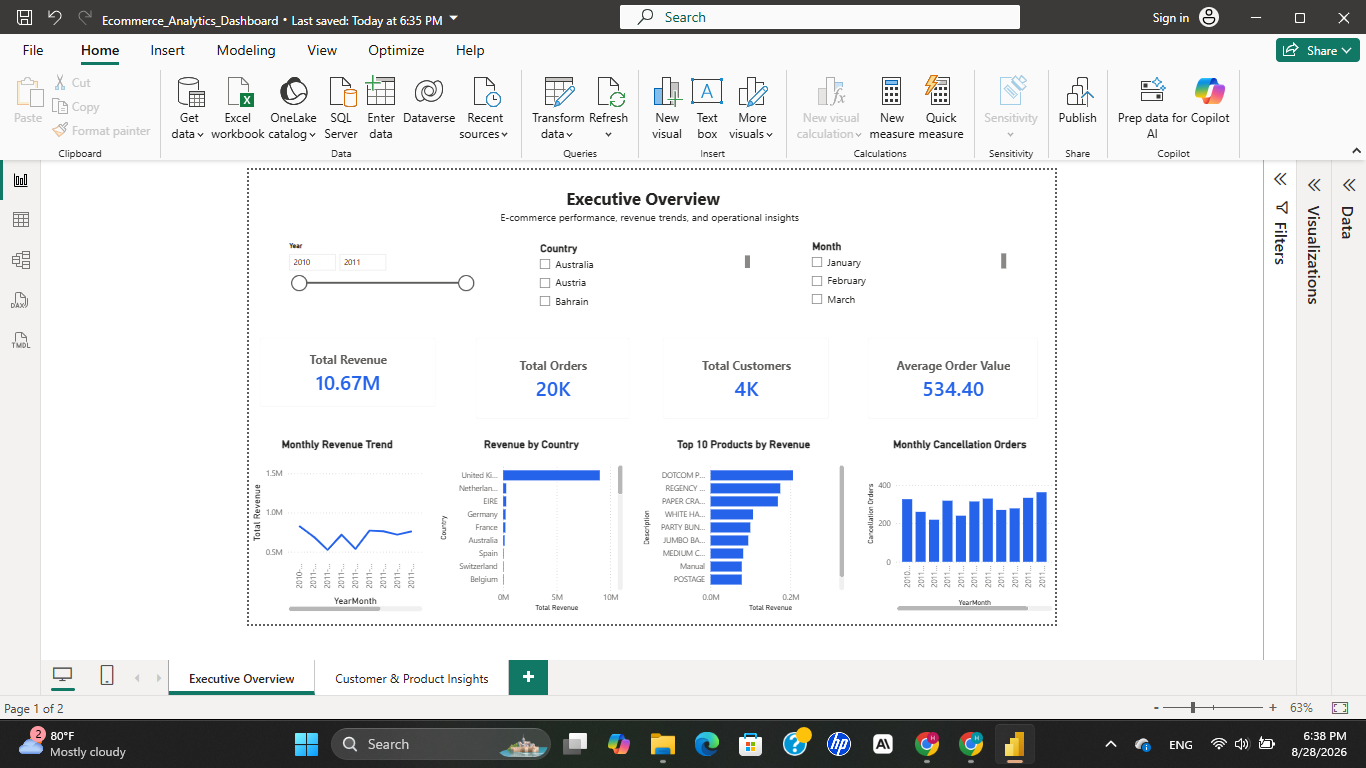

The page's visual inventory and layout, read from the dashboard file:
{"tool":"powerbi","page":{"name":"Executive Overview","canvas":[1280,720],"ordinal":0},"visuals":[{"type":"cardVisual","fields":{"Data":["Sales.Total Revenue"]},"box":[0,248.8,313.2,144.9],"z":0},{"type":"cardVisual","fields":{"Data":["Sales.Total Orders"]},"box":[342.4,248.8,278,163.9],"z":1000},{"type":"cardVisual","fields":{"Data":["Sales.Total Customers"]},"box":[639.5,248.8,298.5,163.9],"z":2000},{"type":"cardVisual","fields":{"Data":["Sales.Average Order Value"]},"box":[964.4,248.8,304.4,163.9],"z":3000},{"type":"lineChart","title":"Monthly Revenue Trend ","fields":{"Category":["DateTable.YearMonth"],"Y":["Sales.Total Revenue"]},"box":[0,425.9,280,280],"z":4000},{"type":"clusteredBarChart","title":"Revenue by Country","fields":{"Category":["Sales.Country"],"Y":["Sales.Total Revenue"]},"box":[298.5,425.9,300,279.5],"z":5000},{"type":"clusteredBarChart","title":"Top 10 Products by Revenue","fields":{"Category":["Sales.Description"],"Y":["Sales.Total Revenue"]},"box":[620.5,425.9,329.3,279.5],"z":6000},{"type":"clusteredColumnChart","title":"Monthly Cancellation Orders","fields":{"Category":["DateTable.YearMonth"],"Y":["Sales.Cancellation Orders"]},"box":[976.1,425.9,304.4,279.5],"z":7000},{"type":"textbox","box":[499,22,275.1,48.3],"z":8000},{"type":"textbox","box":[393.7,58.5,591.2,61.5],"z":8001},{"type":"slicer","fields":{"Values":["DateTable.Year"]},"box":[51.2,109.8,314.6,120],"z":8002},{"type":"slicer","fields":{"Values":["Sales.Country"]},"box":[449.3,109.8,351.2,120],"z":8003},{"type":"slicer","fields":{"Values":["DateTable.Month"]},"box":[881,106.8,326.3,122.9],"z":8004}]}

Visuals, with their boxes on the page's 1280x720 design canvas (x1, y1, x2, y2). These are canvas units, not pixel positions in the 1366x768 screenshot, which may show the page scaled, cropped or inside an application window:
cardVisual - Sales.Total Revenue: bbox=[0, 249, 313, 394]
cardVisual - Sales.Total Orders: bbox=[342, 249, 620, 413]
cardVisual - Sales.Total Customers: bbox=[640, 249, 938, 413]
cardVisual - Sales.Average Order Value: bbox=[964, 249, 1269, 413]
"Monthly Revenue Trend " lineChart: bbox=[0, 426, 280, 706]
"Revenue by Country" clusteredBarChart: bbox=[298, 426, 598, 705]
"Top 10 Products by Revenue" clusteredBarChart: bbox=[620, 426, 950, 705]
"Monthly Cancellation Orders" clusteredColumnChart: bbox=[976, 426, 1280, 705]
textbox: bbox=[499, 22, 774, 70]
textbox: bbox=[394, 58, 985, 120]
slicer - DateTable.Year: bbox=[51, 110, 366, 230]
slicer - Sales.Country: bbox=[449, 110, 800, 230]
slicer - DateTable.Month: bbox=[881, 107, 1207, 230]
